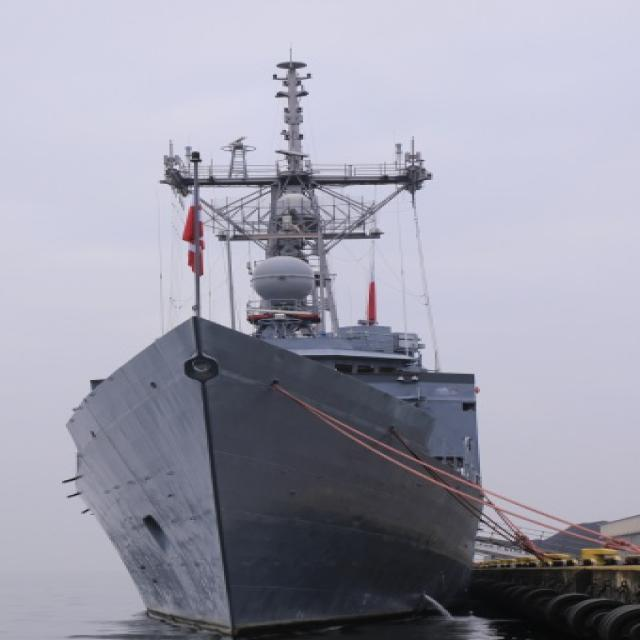Fragata: (67, 40, 492, 640)
